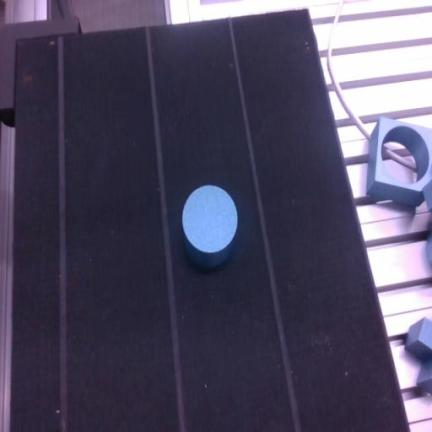cylinder: (181, 185, 237, 268)
